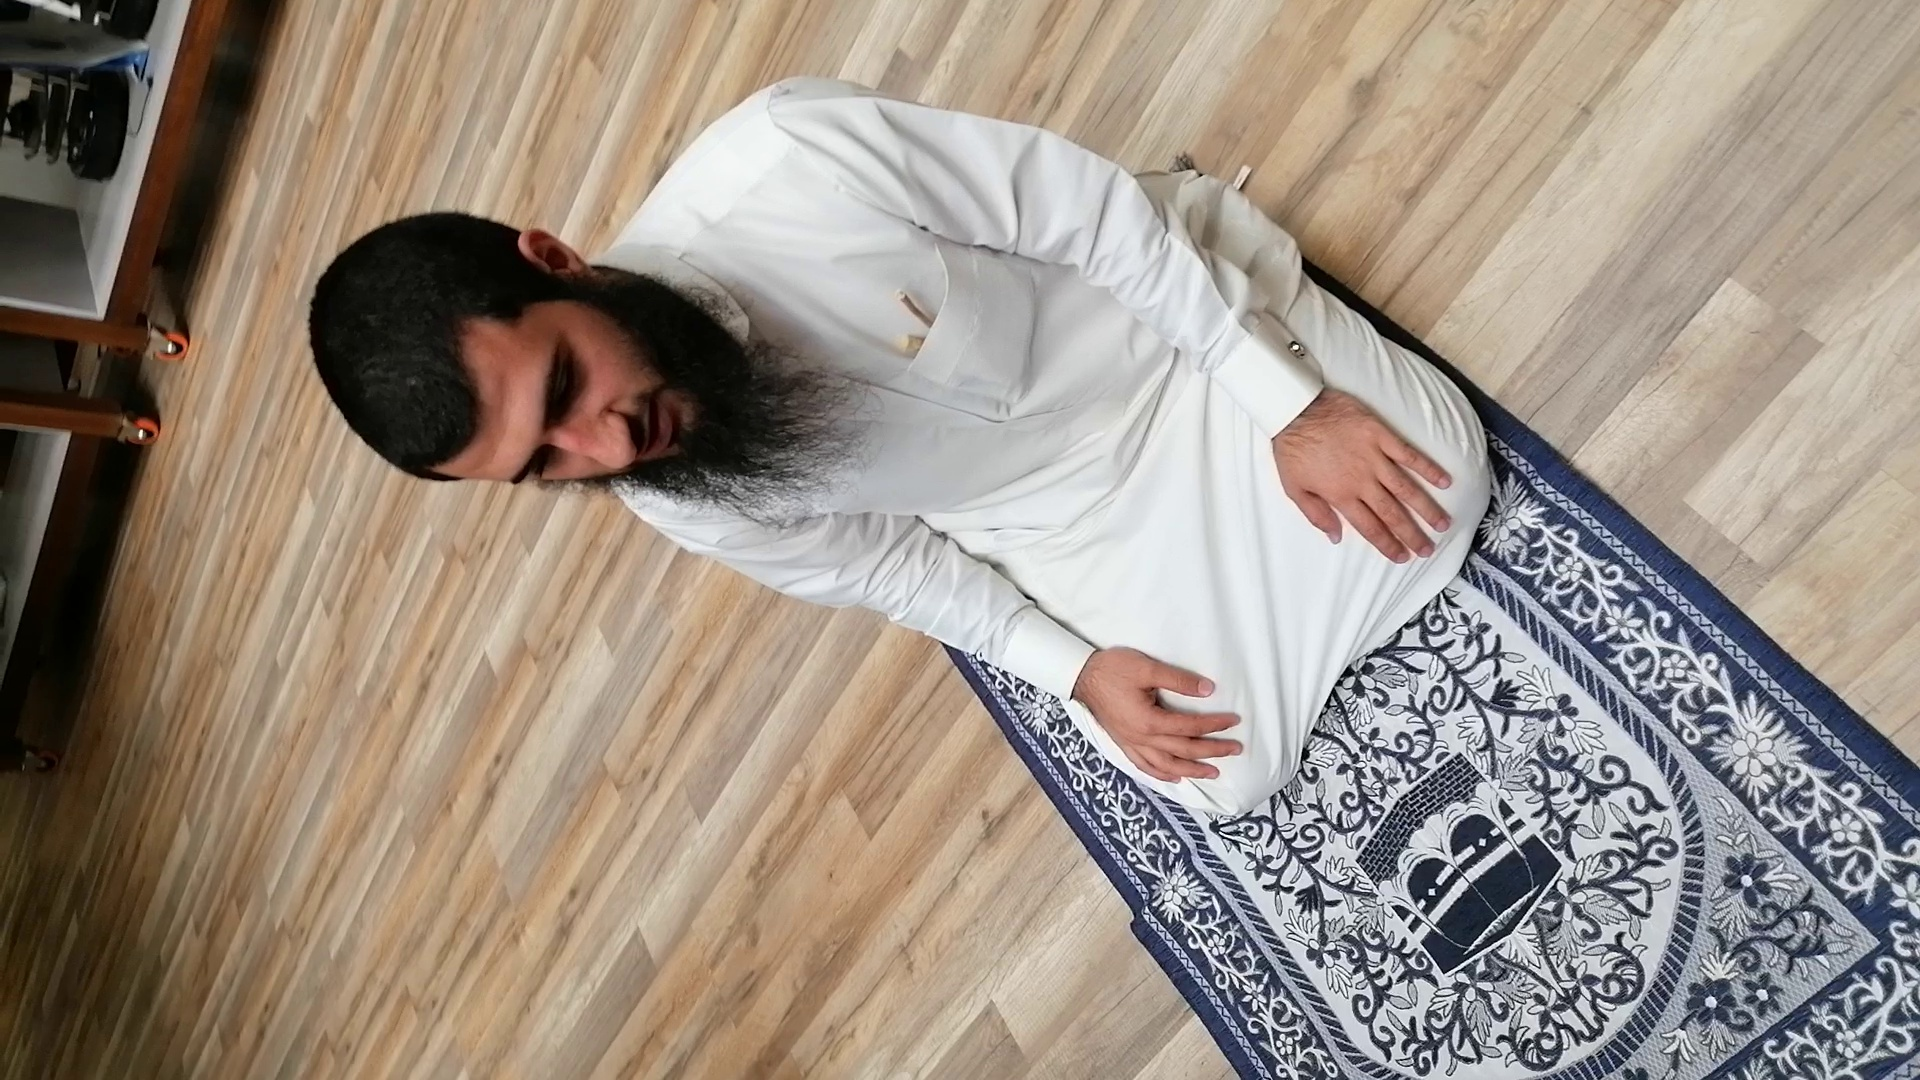sitting: (232, 57, 1567, 864)
